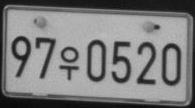0: (160, 41, 181, 86), (85, 38, 106, 82)
2: (135, 40, 157, 85)
5: (110, 40, 132, 84)
7: (34, 36, 57, 79)
9: (10, 34, 32, 77)
우: (58, 45, 80, 81)
